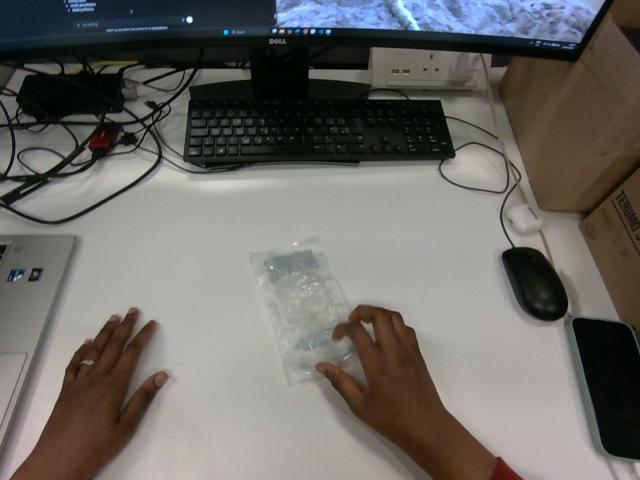gallipot: (250, 238, 354, 384)
